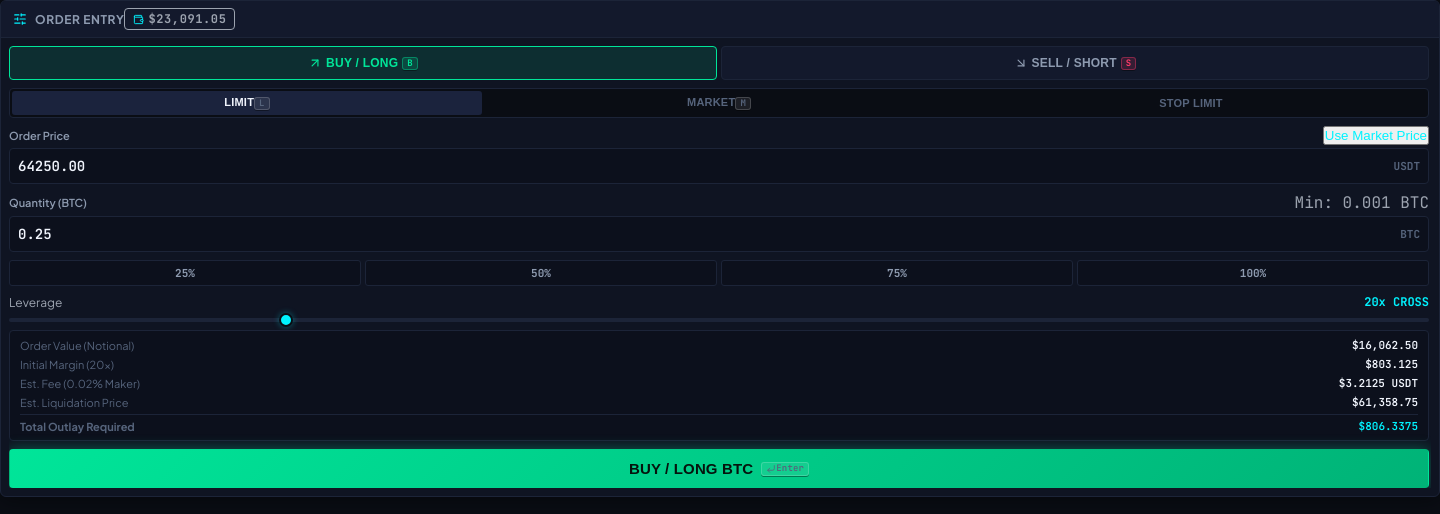
Test: Phase 8 — Order Form Feature › switches between BUY and SELL sides and updates submit button text
Expected: the button with test id "order-submit-btn" shows "BUY / LONG BTC", [9,449,1429,488]
Step 1. Click the radio button with test id "side-sell-btn" → [1075, 63], box [721,46,1429,80]
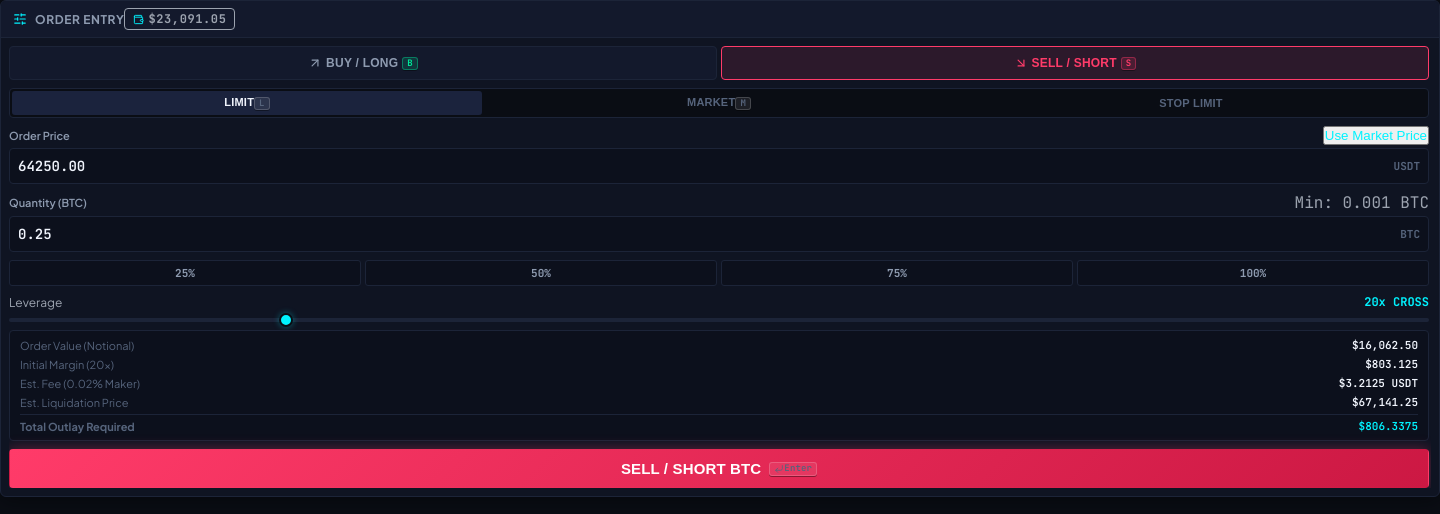
Expected: the button with test id "order-submit-btn" shows "SELL / SHORT BTC", [9,449,1429,488]
